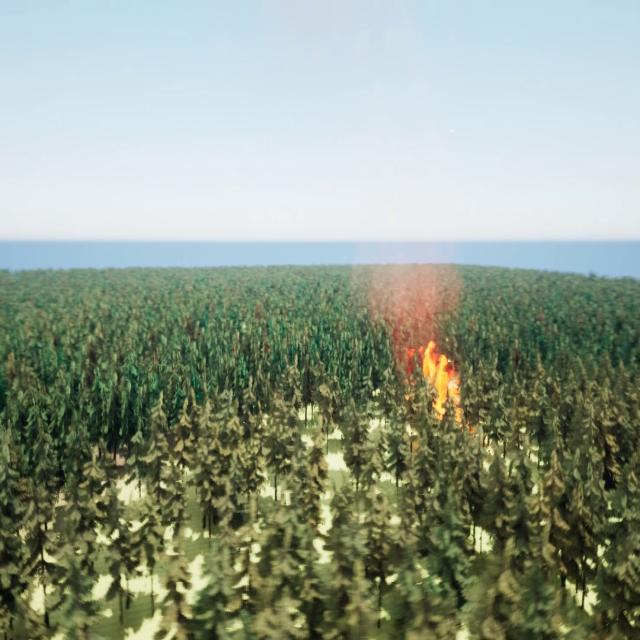fire: (415, 336, 474, 449)
smoke: (353, 238, 463, 352)
